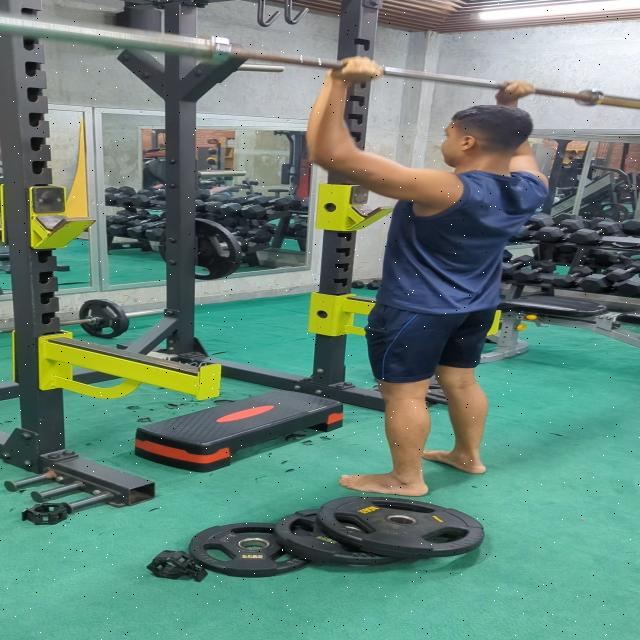Normal_OverheadPress: (276, 45, 560, 503)
